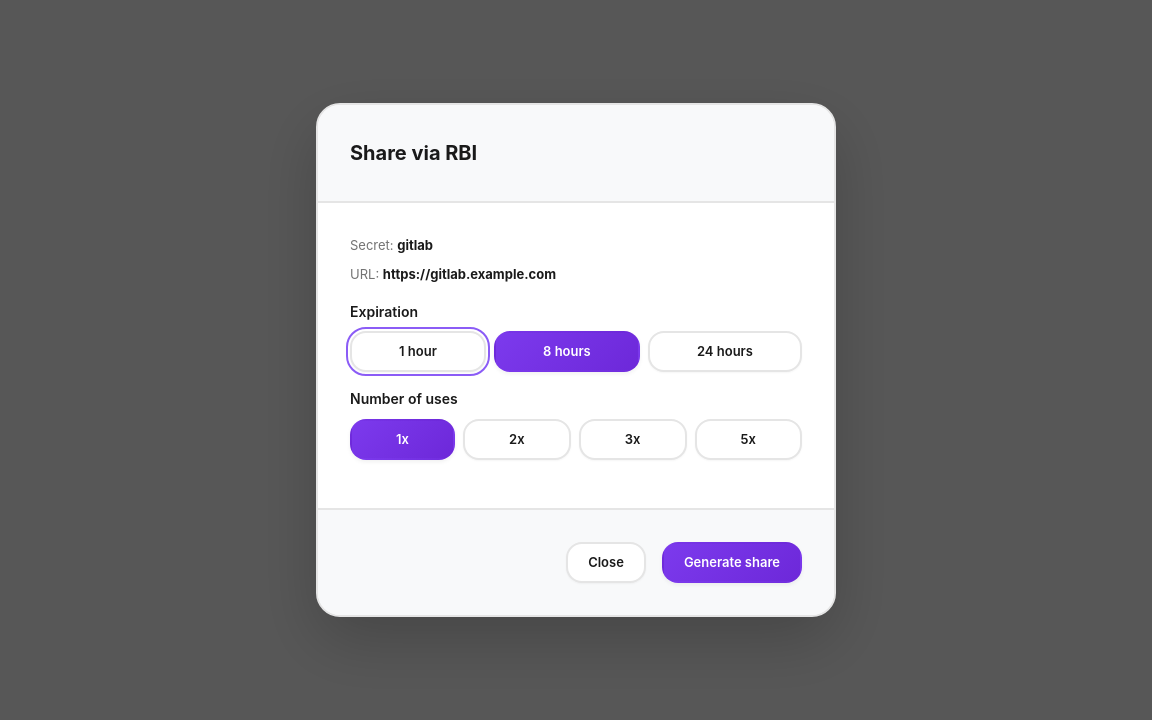
REMOTE-4 — wrapping token jamais laissé orphelin › proxy injoignable (ERR_NETWORK, ex. CSP) : wrapping token consommé, message « proxy injoignable »
Click the button "Generate share" at [732, 562], box [662,542,802,583]
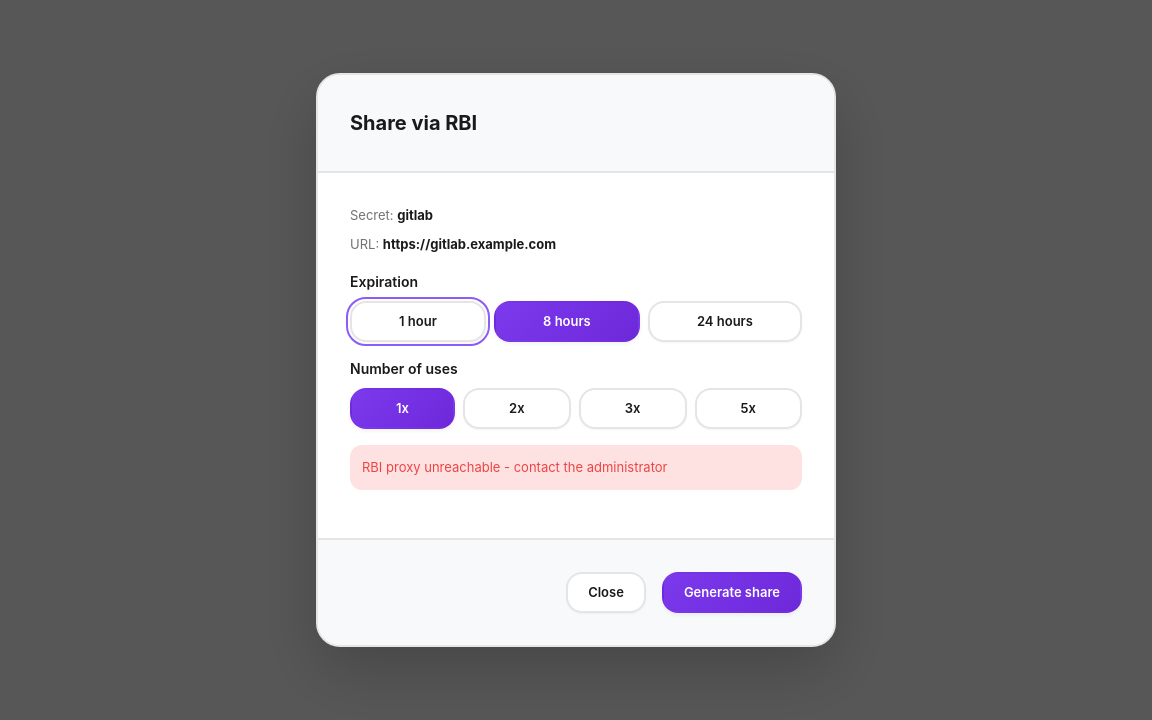
Expected: the message "RBI proxy unreachable - contact the administrator" is shown, [350,445,802,490]
